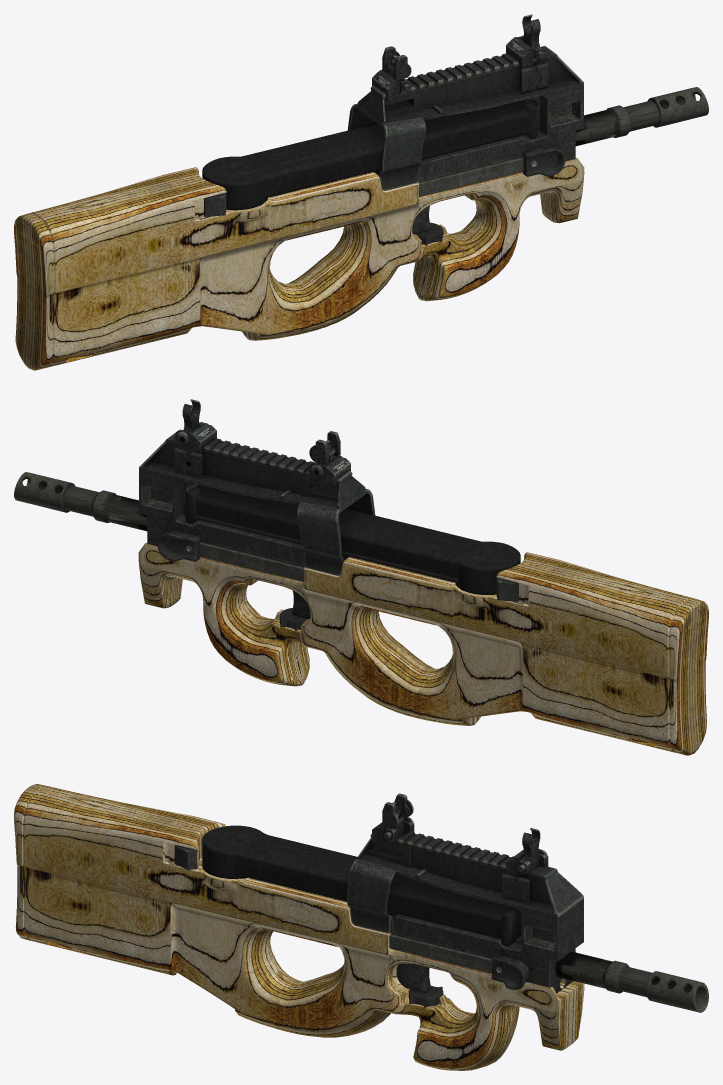
The model's file is w_assaultsmg_shapewood.glb.
3 renders of one model, top to bottom at view 1: azimuth 30°, elevation 25°; view 2: azimuth 150°, elevation 25°; view 3: azimuth 330°, elevation 25°, orthographic.
Parts seen in each view (by area): view 1: Gun_Root; view 2: Gun_Root; view 3: Gun_Root.
Part boxes in pixels (x1,y1,x2,y2): Gun_Root: [14, 14, 708, 370]; Gun_Root: [14, 399, 708, 755]; Gun_Root: [14, 784, 708, 1070].
Bounding box in the file's own units: 0.5898 × 0.2149 × 0.0635.
Materials: 1 (1 with a texture image).
